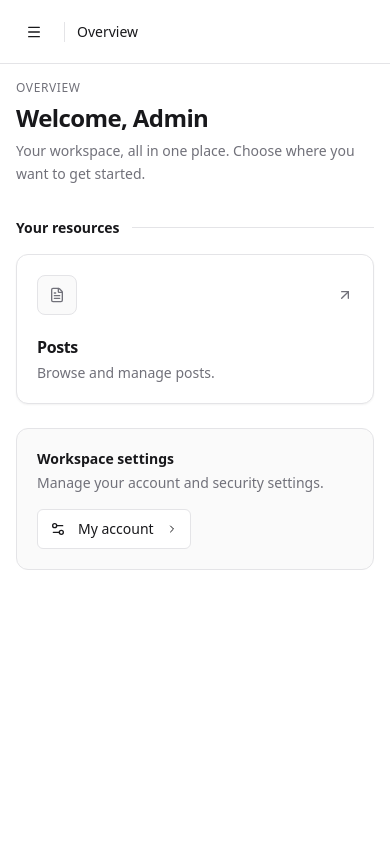
Scenario: opens a named native navigation dialog and closes without changing content
Step 1. Click the button named "Open navigation" → [34, 32], box [16, 14, 52, 50]
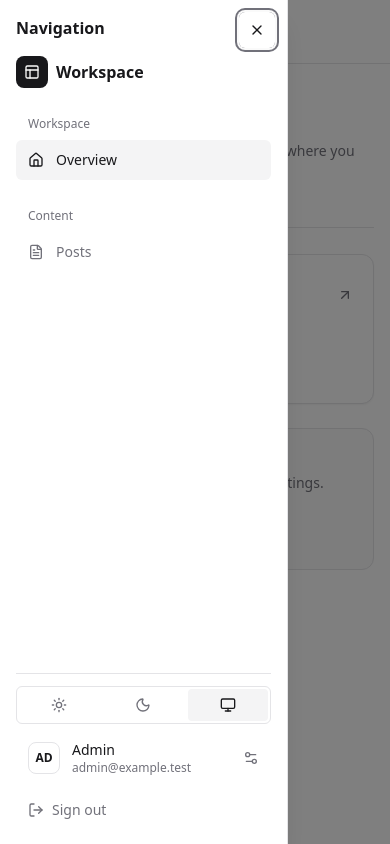
expect the navigation bar named "Resources" is shown: met, box [16, 115, 271, 261]
Step 2. Click the button named "Close navigation" → [257, 30], box [239, 12, 275, 48]
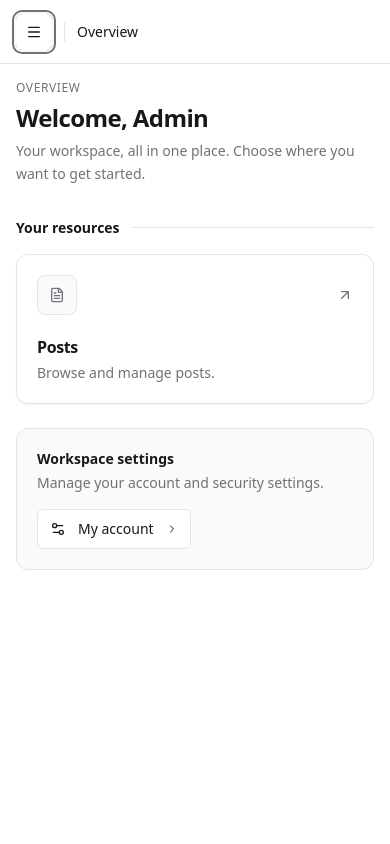
expect the heading "Navigation" is gone: met
